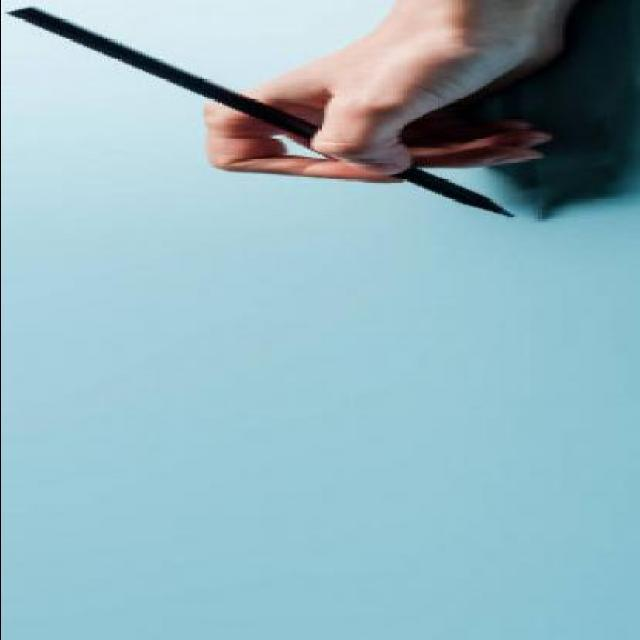pencil: (430, 186, 524, 218)
